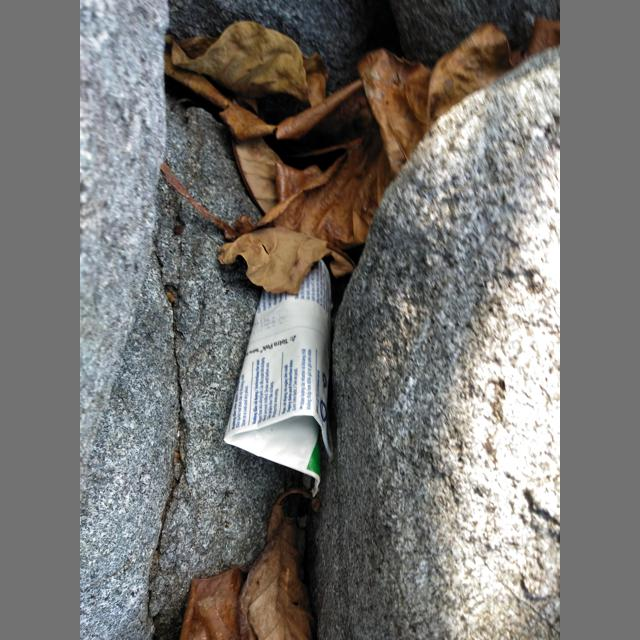litter: (223, 260, 333, 499)
